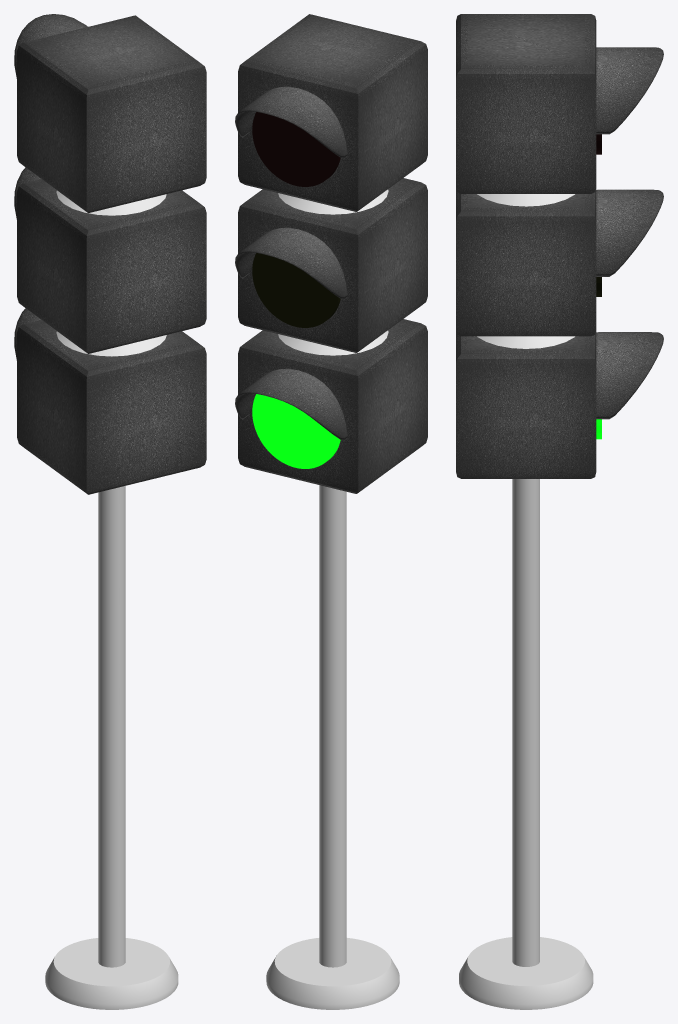
Rendered from 红绿灯.FBX.
3 views of the same model, side by side, from view 1: azimuth 30°, elevation 25°; view 2: azimuth 150°, elevation 25°; view 3: azimuth 270°, elevation 25° (orthographic).
Parts seen in each view (by area): view 1: Box003, Box002, Box001, Cylinder003, Plane003, Cone001, Cone002; view 2: Box003, Cylinder003, Box001, Box002, 对象001, 对象002, 对象003, Plane003, Plane002, Plane001, Cone001, Cone002; view 3: Box003, Cylinder003, Box002, Box001, Plane002, Plane003, Plane001, Cone001, Cone002.
Boxes of the visible parts, x1=… form: Box003: x1=17, y1=15, x2=206, y2=212; Box002: x1=17, y1=179, x2=206, y2=353; Box001: x1=17, y1=320, x2=206, y2=494; Cylinder003: x1=45, y1=486, x2=178, y2=1009; Plane003: x1=14, y1=14, x2=87, y2=78; Cone001: x1=56, y1=331, x2=166, y2=356; Cone002: x1=56, y1=190, x2=166, y2=215; Box003: x1=238, y1=14, x2=427, y2=211; Cylinder003: x1=266, y1=485, x2=399, y2=1009; Box001: x1=238, y1=319, x2=427, y2=493; Box002: x1=238, y1=178, x2=427, y2=352; 对象001: x1=252, y1=112, x2=340, y2=186; 对象002: x1=252, y1=253, x2=340, y2=327; 对象003: x1=252, y1=394, x2=340, y2=468; Plane003: x1=235, y1=86, x2=347, y2=158; Plane002: x1=235, y1=227, x2=347, y2=299; Plane001: x1=235, y1=368, x2=347, y2=440; Cone001: x1=278, y1=330, x2=388, y2=355; Cone002: x1=278, y1=189, x2=388, y2=214; Box003: x1=456, y1=14, x2=596, y2=193; Cylinder003: x1=459, y1=479, x2=593, y2=1009; Box002: x1=456, y1=188, x2=596, y2=336; Box001: x1=456, y1=330, x2=596, y2=478; Plane002: x1=596, y1=189, x2=663, y2=276; Plane003: x1=596, y1=47, x2=663, y2=134; Plane001: x1=596, y1=332, x2=663, y2=419; Cone001: x1=477, y1=336, x2=574, y2=348; Cone002: x1=477, y1=194, x2=574, y2=206.
Size of the model in its own units: 25 by 185 by 37.05.
4 materials, 1 textured.
